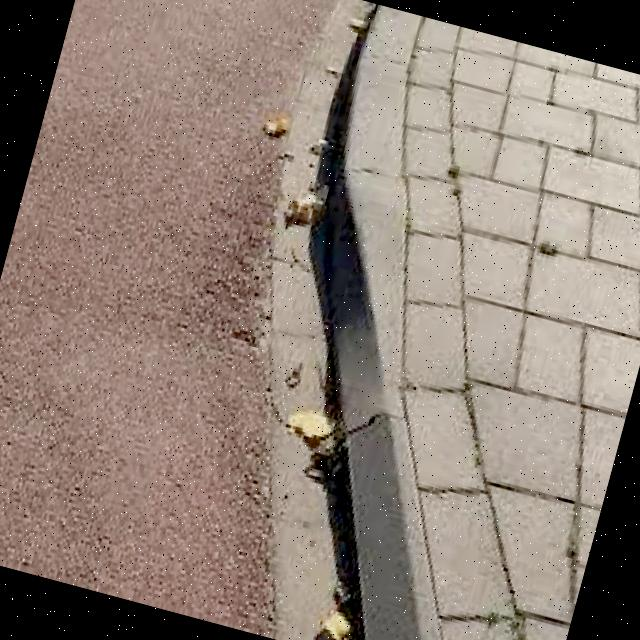curb: (262, 272, 443, 549), (285, 2, 442, 296), (269, 487, 493, 640)
